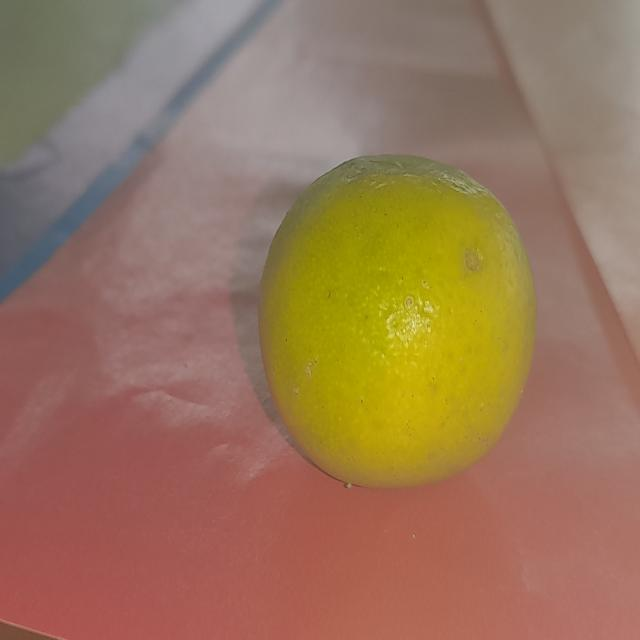greening: (258, 145, 540, 490)
